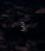three: (19, 20, 24, 30)
